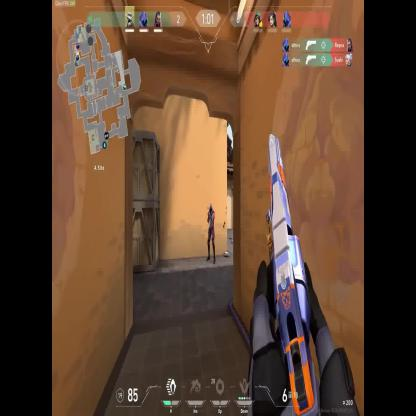enemy: (206, 202, 216, 264)
enemy_head: (209, 203, 212, 210)
